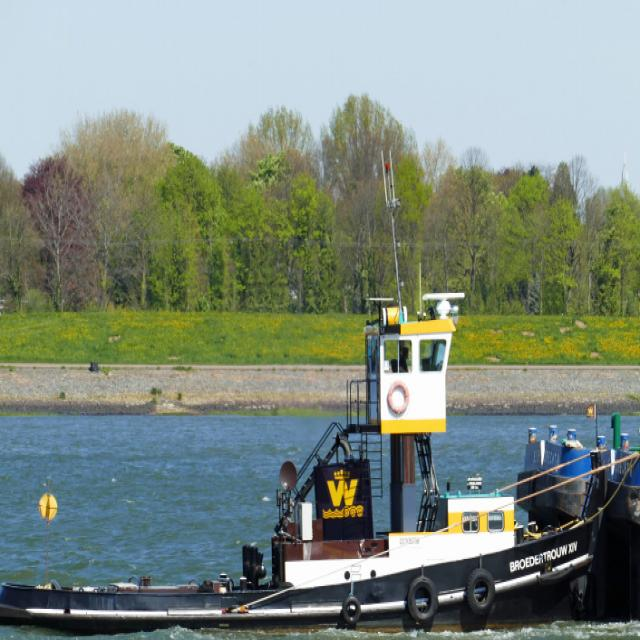tugboat: (1, 287, 617, 640)
